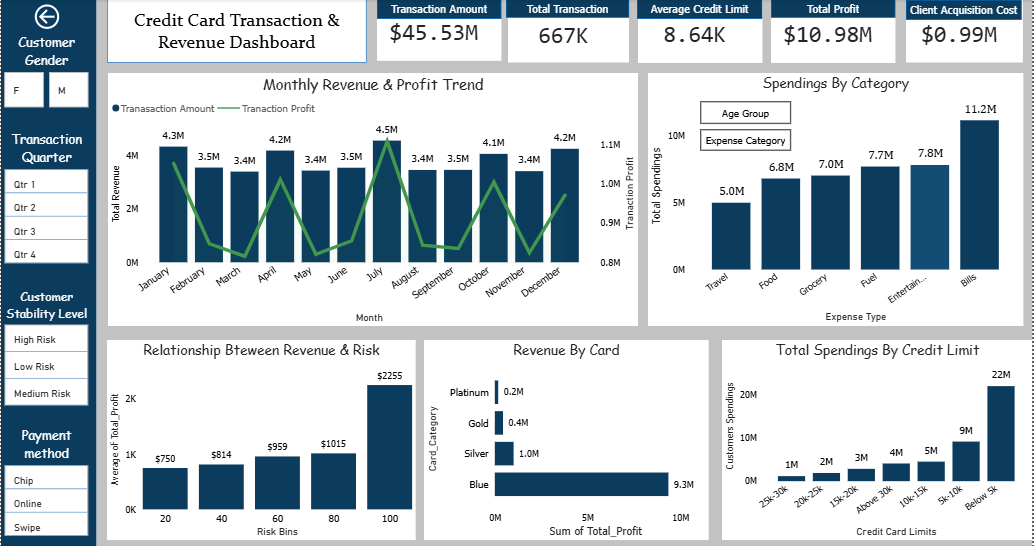

Layout of this report page (visuals, bound fields, positions):
{"tool":"powerbi","page":{"name":"Transaction Dashboard","canvas":[1500,800],"ordinal":1},"visuals":[{"type":"shape","box":[0,0,138.7,800],"z":0},{"type":"cardVisual","title":"Total Customers","fields":{"Data":["Sum(CreditCard.Total_Revenue)"]},"box":[136.8,0,213.1,93.6],"z":1000},{"type":"cardVisual","title":"Total Customers","fields":{"Data":["Sum(CreditCard.Total_Trans_Amt)"]},"box":[382.4,0,244.8,92.8],"z":2000},{"type":"cardVisual","title":"Total Customers","fields":{"Data":["Sum(CreditCard.Total_Trans_Vol)"]},"box":[665.6,1.6,241.6,92.8],"z":3000},{"type":"cardVisual","title":"Total Customers","fields":{"Data":["Avg(CreditCard.CAC_Ratio)"]},"box":[942.4,1.6,230.4,92.8],"z":4000},{"type":"cardVisual","title":"Total Customers","fields":{"Data":["50 States.AVG_Credit_limit"]},"box":[1200,1.6,230.4,92.8],"z":5000},{"type":"shape","box":[382.4,1.6,144,28.8],"z":6000},{"type":"shape","box":[665.6,1.6,142.4,30.4],"z":7000},{"type":"shape","box":[942.4,1.6,144,30.4],"z":8000},{"type":"shape","box":[1200,1.6,145.6,30.4],"z":9000},{"type":"lineStackedColumnComboChart","title":"Revenue By Card","fields":{"Category":["CreditCard.Card_Category"],"Y":["Sum(CreditCard.Total_Revenue)"]},"box":[629,430.6,416.1,369.4],"z":10000},{"type":"lineClusteredColumnComboChart","title":"Spending Behaviour","fields":{"Category":["CreditCard.Exp Type"],"Y":["Sum(CreditCard.Total_Trans_Amt)"]},"box":[1045.2,430.6,454.8,369.4],"z":11000},{"type":"advancedSlicerVisual","title":"Gender","fields":{"Values":["customer.Gender"]},"box":[0,111.3,138.7,98.4],"z":12000},{"type":"advancedSlicerVisual","title":"Gender","fields":{"Values":["Financial_Stability.Stability_Category"]},"box":[0,224.2,138.7,166.1],"z":13000},{"type":"slicer","title":"Quarter","fields":{"Values":["CreditCard.Week_Start_Date.Variation.Date Hierarchy.Quarter"]},"box":[6.5,741.9,125.8,58.1],"z":14000},{"type":"lineClusteredColumnComboChart","title":"Credit Limit vs Spendings","fields":{"Category":["CreditCard.Credit_Limit_Bins"],"Y":["Avg(CreditCard.Total_Trans_Amt)"]},"box":[140,448.9,488.6,351.2],"z":16000},{"type":"actionButton","title":"Button2","box":[196.9,492.1,128,51.2],"z":17000},{"type":"actionButton","title":"Button1","box":[350.4,492.1,128,47.2],"z":18000},{"type":"slicer","title":"Use Chip","fields":{"Values":["CreditCard.Use Chip"]},"box":[6.5,664.5,125.8,58.1],"z":19000},{"type":"slicer","title":"Use Chip","fields":{"Values":["50 States.State"]},"box":[6.5,587.1,125.8,58.1],"z":20000},{"type":"image","box":[3.2,390.3,135.5,177.4],"z":21000},{"type":"image","box":[261.3,0,88.7,93.5],"z":22000},{"type":"image","box":[526.4,0,102.4,92.8],"z":23000},{"type":"image","box":[808,0,99.2,92.8],"z":24000},{"type":"image","box":[1086.4,0,86.4,92.8],"z":25000},{"type":"image","box":[1345.6,1.6,84.8,92.8],"z":26000},{"type":"lineChart","title":"Revenue Trend","fields":{"Category":["CreditCard.Week_Start_Date.Variation.Date Hierarchy.Month","CreditCard.Week_Start_Date.Variation.Date Hierarchy.Day"],"Y2":["Sum(CreditCard.Total_Revenue)"],"Y":["Sum(CreditCard.Total_Trans_Amt)"]},"box":[139.8,112.2,1360.2,318.9],"z":27000},{"type":"shape","box":[139.2,0,144,28.8],"z":28000},{"type":"textbox","box":[992,129.6,131.2,80],"z":29000}]}

Visuals, with their boxes in screenshot pixels (x1, y1, x2, y2), scaled from the page's 1500x800 canvas onto the 1035x546 screenshot:
shape: (left=0, top=0, right=96, bottom=545)
"Total Customers" cardVisual: (left=94, top=0, right=241, bottom=64)
"Total Customers" cardVisual: (left=264, top=0, right=433, bottom=63)
"Total Customers" cardVisual: (left=459, top=1, right=626, bottom=64)
"Total Customers" cardVisual: (left=650, top=1, right=809, bottom=64)
"Total Customers" cardVisual: (left=828, top=1, right=987, bottom=64)
shape: (left=264, top=1, right=363, bottom=21)
shape: (left=459, top=1, right=558, bottom=22)
shape: (left=650, top=1, right=750, bottom=22)
shape: (left=828, top=1, right=928, bottom=22)
"Revenue By Card" lineStackedColumnComboChart: (left=434, top=294, right=721, bottom=545)
"Spending Behaviour" lineClusteredColumnComboChart: (left=721, top=294, right=1034, bottom=545)
"Gender" advancedSlicerVisual: (left=0, top=76, right=96, bottom=143)
"Gender" advancedSlicerVisual: (left=0, top=153, right=96, bottom=266)
"Quarter" slicer: (left=4, top=506, right=91, bottom=545)
"Credit Limit vs Spendings" lineClusteredColumnComboChart: (left=97, top=306, right=434, bottom=545)
"Button2" actionButton: (left=136, top=336, right=224, bottom=371)
"Button1" actionButton: (left=242, top=336, right=330, bottom=368)
"Use Chip" slicer: (left=4, top=454, right=91, bottom=493)
"Use Chip" slicer: (left=4, top=401, right=91, bottom=440)
image: (left=2, top=266, right=96, bottom=387)
image: (left=180, top=0, right=241, bottom=64)
image: (left=363, top=0, right=434, bottom=63)
image: (left=558, top=0, right=626, bottom=63)
image: (left=750, top=0, right=809, bottom=63)
image: (left=928, top=1, right=987, bottom=64)
"Revenue Trend" lineChart: (left=96, top=77, right=1034, bottom=294)
shape: (left=96, top=0, right=195, bottom=20)
textbox: (left=684, top=88, right=775, bottom=143)
